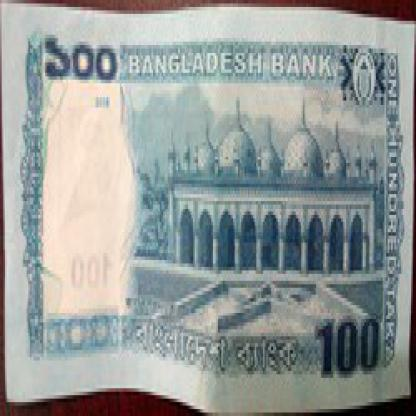one hundred taka: (30, 24, 121, 87), (313, 305, 388, 378)
